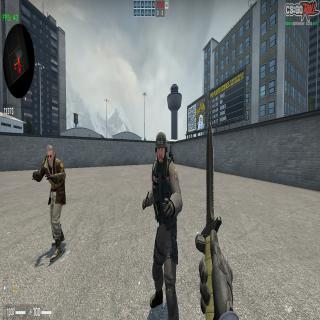CT-Body: (142, 129, 183, 320)
CT-Head: (154, 130, 168, 167)
T-Body: (32, 160, 68, 264)
T-Head: (46, 144, 54, 167)
